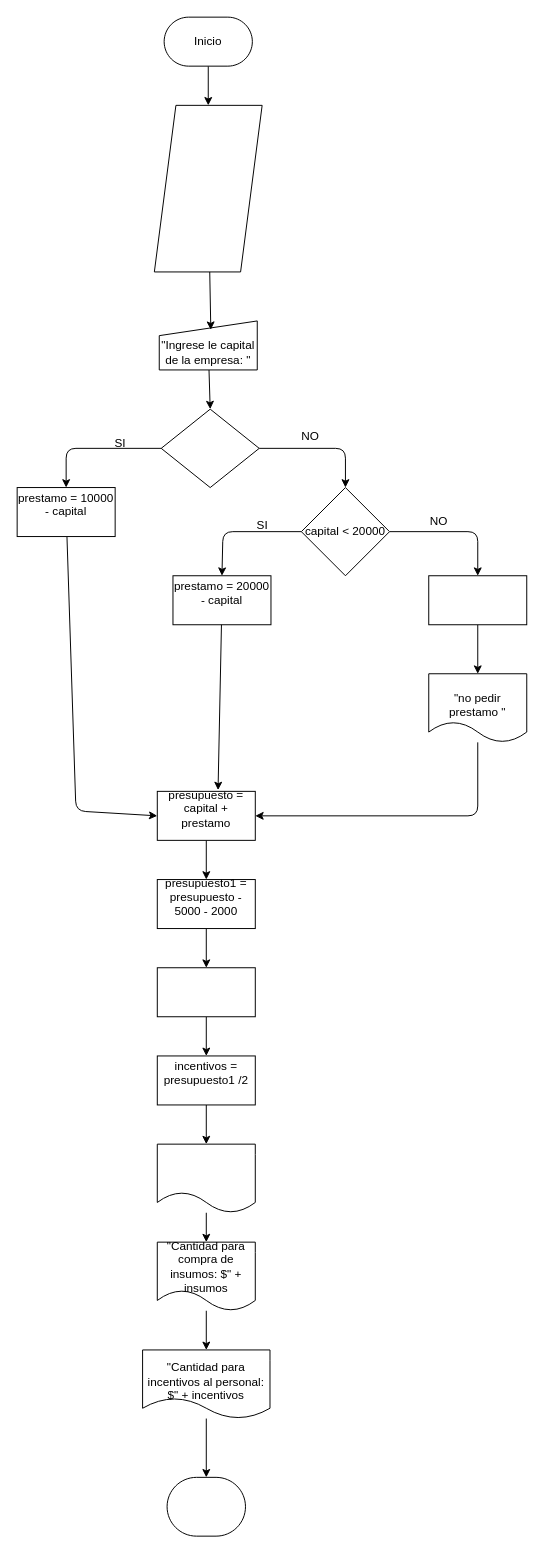
This 544x1553 diagram has some shape labels left out. Each missing label, with the centre of its shape:
"Cantidad a pedir al banco: $" + prestamo: (x=205, y=1178)
capital < 0: (x=209, y=448)
Fin: (x=205, y=1506)
insumos = presupuesto1 / 2: (x=205, y=992)
prestamo = 0: (x=477, y=600)
presupuesto presupuesto1 insumos incentivos capital prestamo: (x=207, y=188)
